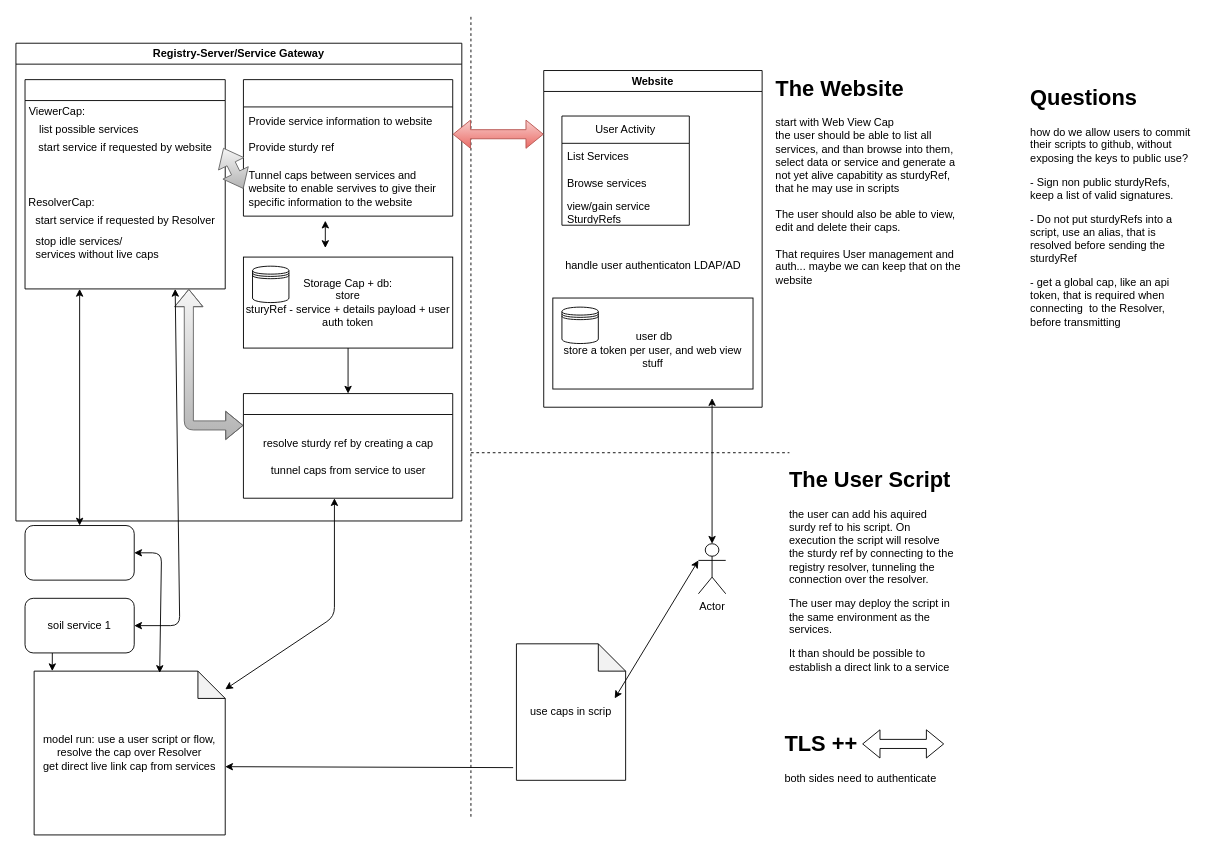
Some shapes in this 1215 by 851 pixel diagram are drawn without their labels. The box of each missing label's shape, as (x1, y1, x2, y2) in pixels:
clim service 1: (24, 525, 134, 580)
Service Spawner: (24, 79, 225, 289)
SturdyRef Resolver Cap: (243, 393, 453, 498)
Web View Cap: (243, 79, 453, 216)
